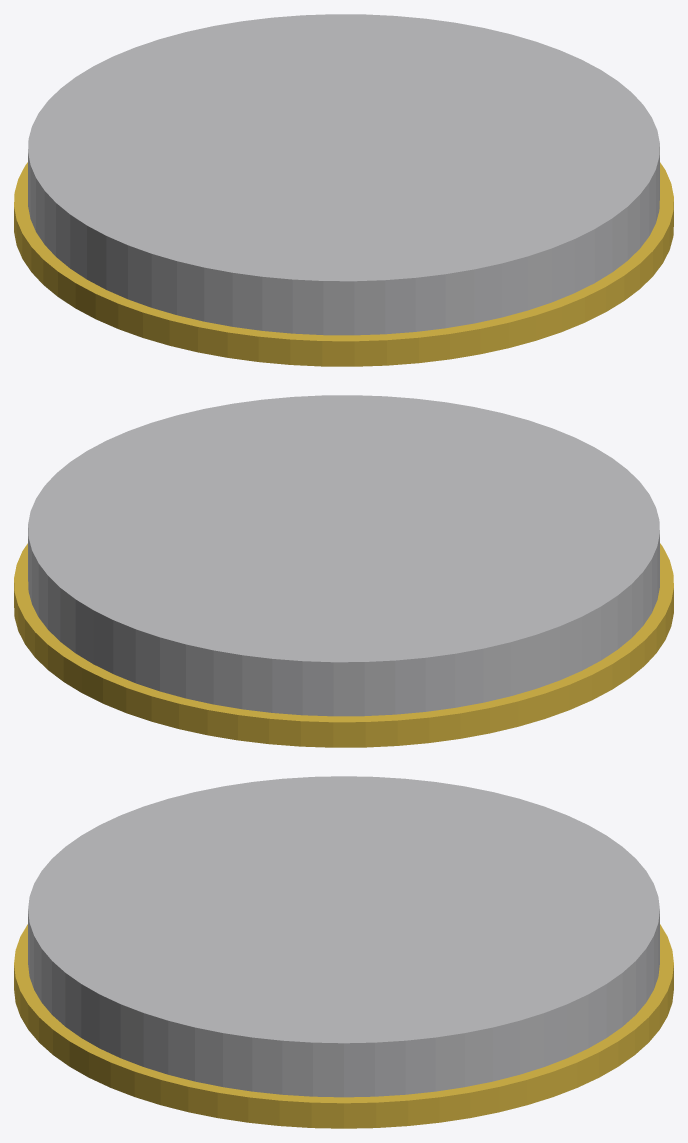
File: collectible_troll_coin.glb
3 renders of one model, top to bottom at view 1: azimuth 30°, elevation 25°; view 2: azimuth 150°, elevation 25°; view 3: azimuth 270°, elevation 25°, orthographic.
Parts seen in each view (by area): view 1: coin_disc, rim; view 2: coin_disc, rim; view 3: coin_disc, rim.
Boxes of the visible parts, bbox=[...] form: coin_disc: bbox=[28, 14, 659, 335]; rim: bbox=[14, 162, 673, 366]; coin_disc: bbox=[28, 395, 659, 716]; rim: bbox=[14, 543, 673, 747]; coin_disc: bbox=[28, 776, 659, 1097]; rim: bbox=[14, 924, 673, 1128].
Bounding box in the file's own units: 0.94 × 0.16 × 0.94.
